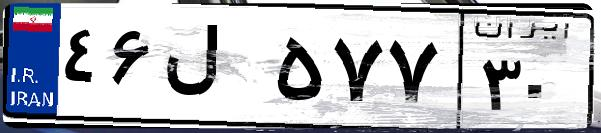0: (525, 38, 570, 115)
3: (475, 38, 525, 113)
4: (57, 26, 110, 100)
5: (270, 28, 330, 110)
6: (110, 28, 158, 98)
7: (385, 28, 445, 110), (330, 28, 385, 110)
ل: (158, 20, 270, 120)
